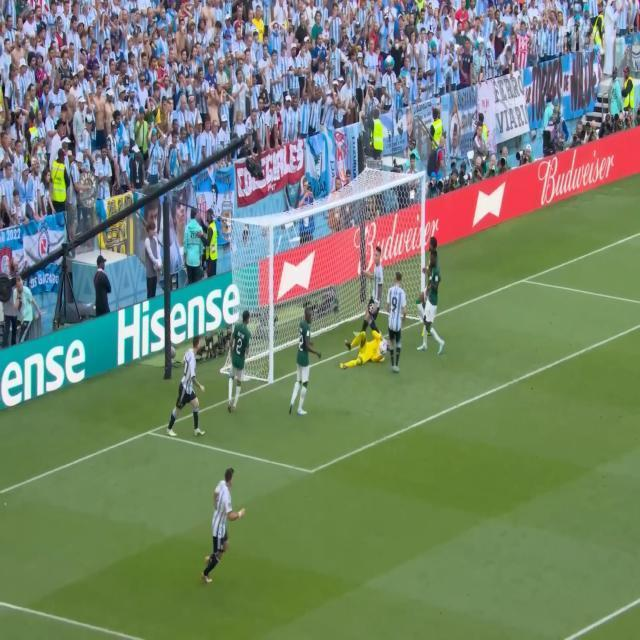player: (201, 464, 248, 578), (167, 338, 205, 442), (288, 301, 322, 416), (226, 304, 253, 422), (421, 253, 446, 362), (385, 271, 407, 376), (361, 241, 383, 342), (342, 332, 394, 369), (428, 230, 436, 280)
